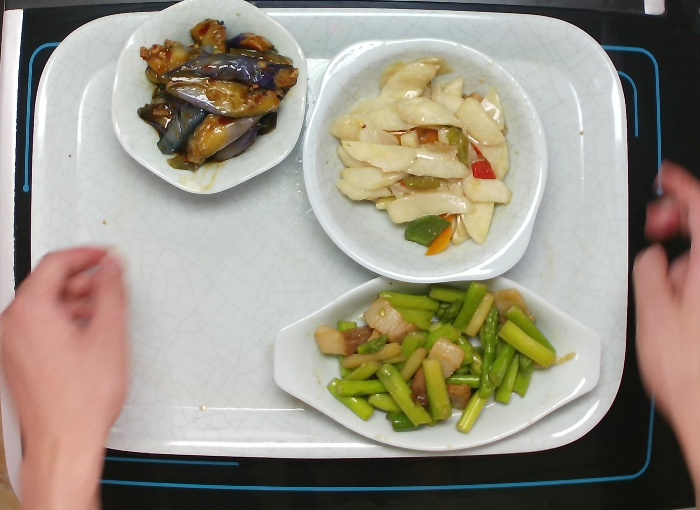JYsf-Shuang_Er_Wan: (299, 26, 552, 287)
JYsf-Yu_Pan: (272, 269, 610, 455)
WCQzf-Hua_Duo_Wan: (110, 1, 314, 197)
